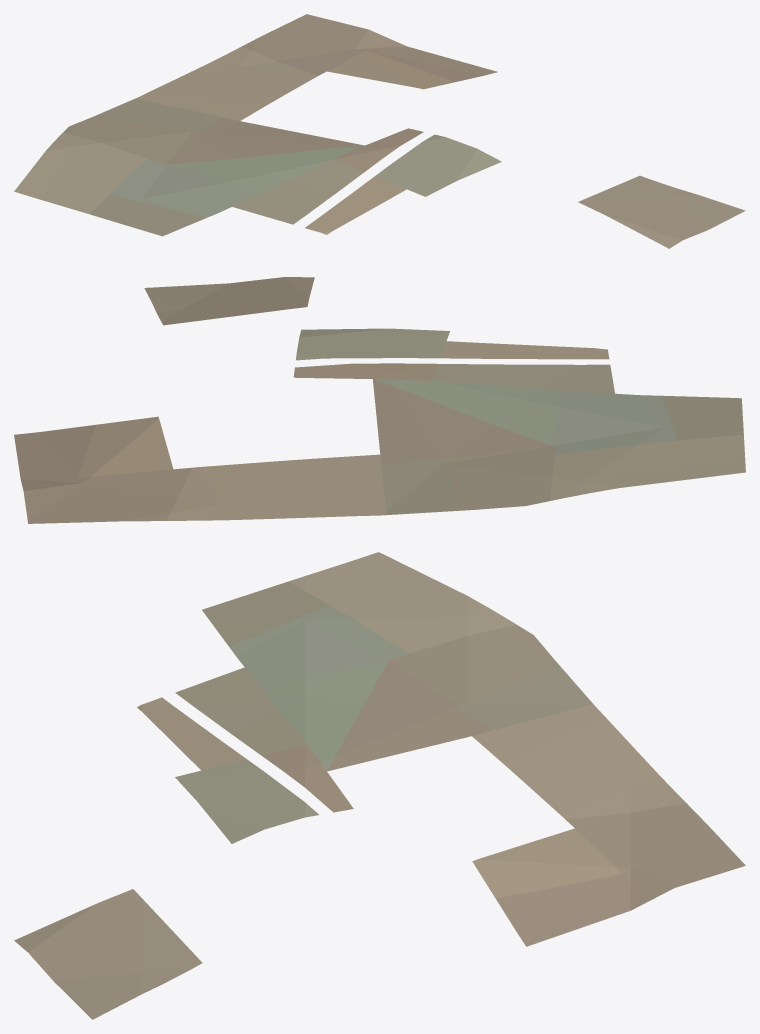
File: farm_-6_7_soil.glb
The picture shows the model from 3 angles, top to bottom: view 1: azimuth 30°, elevation 25°; view 2: azimuth 150°, elevation 25°; view 3: azimuth 270°, elevation 25°; orthographic projection. The views are drawn at different scales.
Parts seen in each view (by area): view 1: geometry_0; view 2: geometry_0; view 3: geometry_0.
Part boxes in pixels (bbox=[...]): geometry_0: bbox=[14, 14, 745, 248]; geometry_0: bbox=[14, 277, 745, 523]; geometry_0: bbox=[14, 552, 745, 1019].
Size of the model in its own units: 426 by 55.06 by 359.
